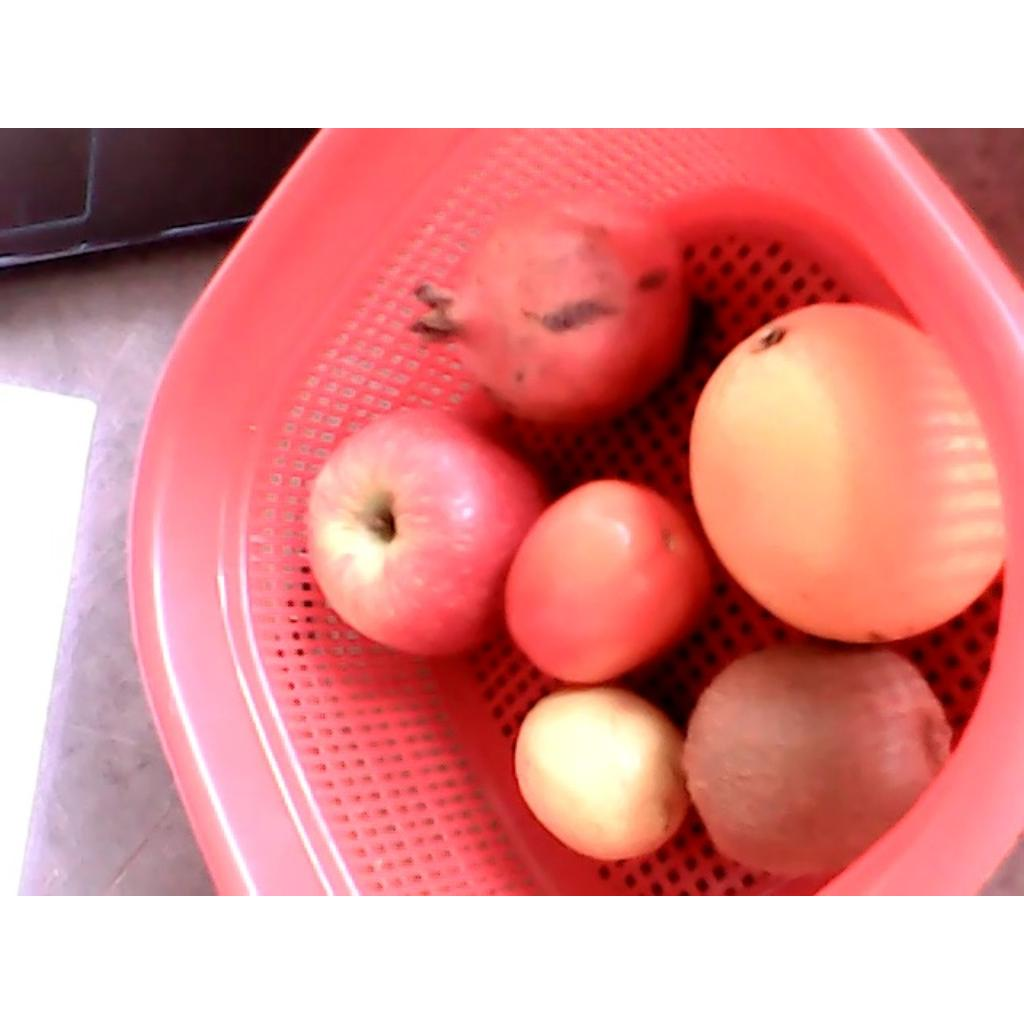apple: (304, 407, 548, 660)
kiwi: (678, 650, 953, 876)
lemon: (514, 686, 692, 862)
orange: (689, 300, 1005, 642)
pomegranate: (411, 186, 688, 427)
tomato: (501, 475, 710, 683)
